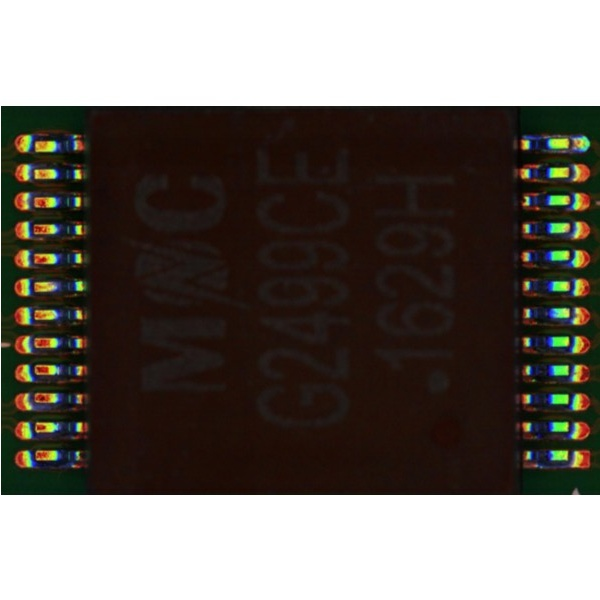Bad_podu: (563, 139, 577, 147)
Bad_qiaojiao: (521, 134, 567, 138), (537, 149, 569, 154)
